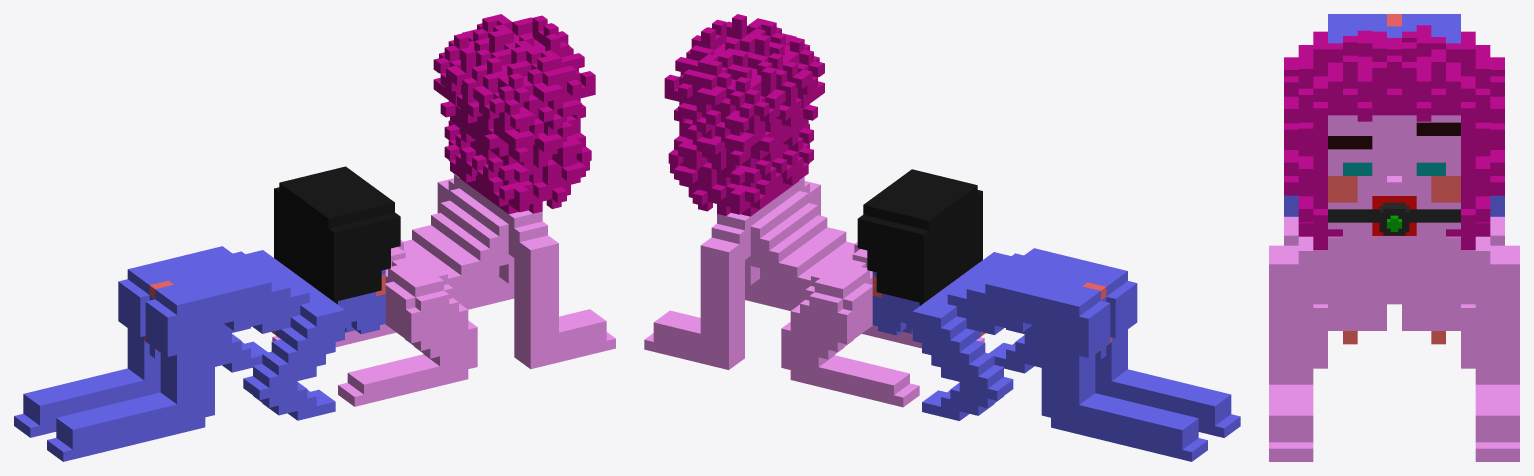
File: kama63.glb
3 views of the same model, side by side, from view 1: azimuth 30°, elevation 25°; view 2: azimuth 150°, elevation 25°; view 3: azimuth 270°, elevation 25° (orthographic). The views are drawn at different scales.
Parts seen in each view (by area): view 1: Node; view 2: Node; view 3: Node.
Part boxes in pixels (left/top/right/bottom): Node: left=14, top=14, right=615, bottom=461; Node: left=644, top=14, right=1240, bottom=461; Node: left=1269, top=14, right=1519, bottom=461.
Size of the model in its own units: 22.4 by 12 by 6.8.
Materials: 1 (1 with a texture image).
